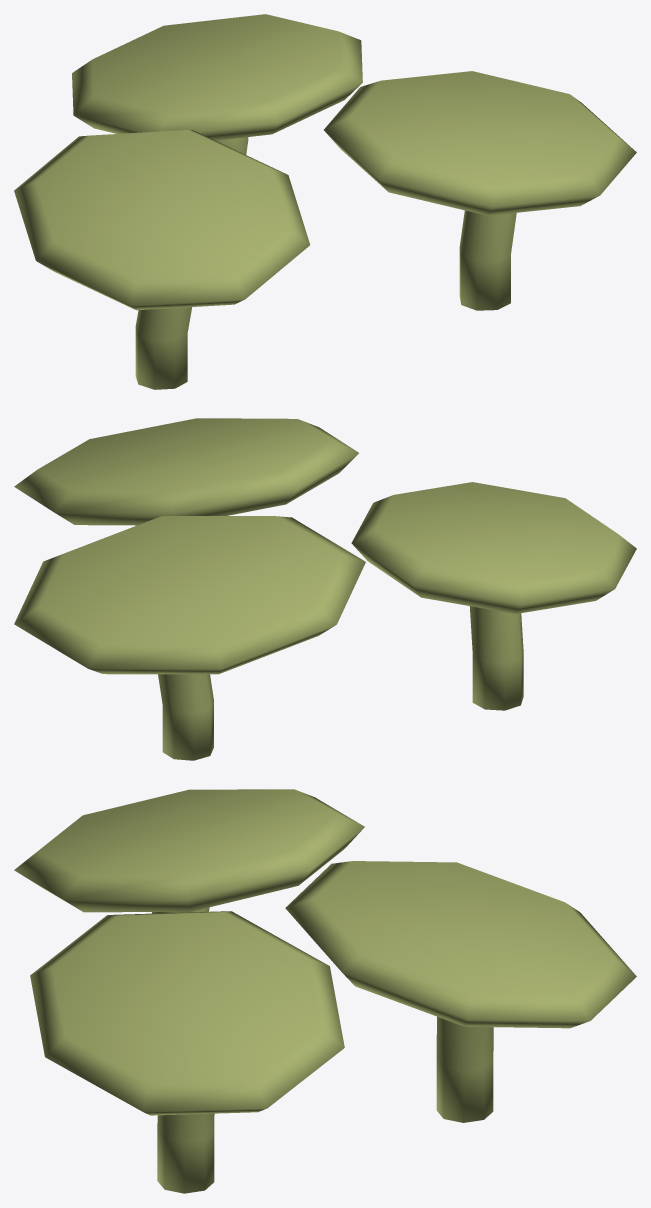
The model's file is Zilinushka Mushroom.fbx.
3 renders of one model, top to bottom at view 1: azimuth 30°, elevation 25°; view 2: azimuth 150°, elevation 25°; view 3: azimuth 270°, elevation 25°, orthographic. The views are drawn at different scales.
Parts seen in each view (by area): view 1: Cone.001; view 2: Cone.001; view 3: Cone.001.
Part boxes in pixels (box(x1,y1,x2,y2)): Cone.001: box(14, 14, 636, 389); Cone.001: box(14, 418, 636, 760); Cone.001: box(14, 789, 636, 1193).
Bounding box in the file's own units: 1468 × 477 × 1290.
